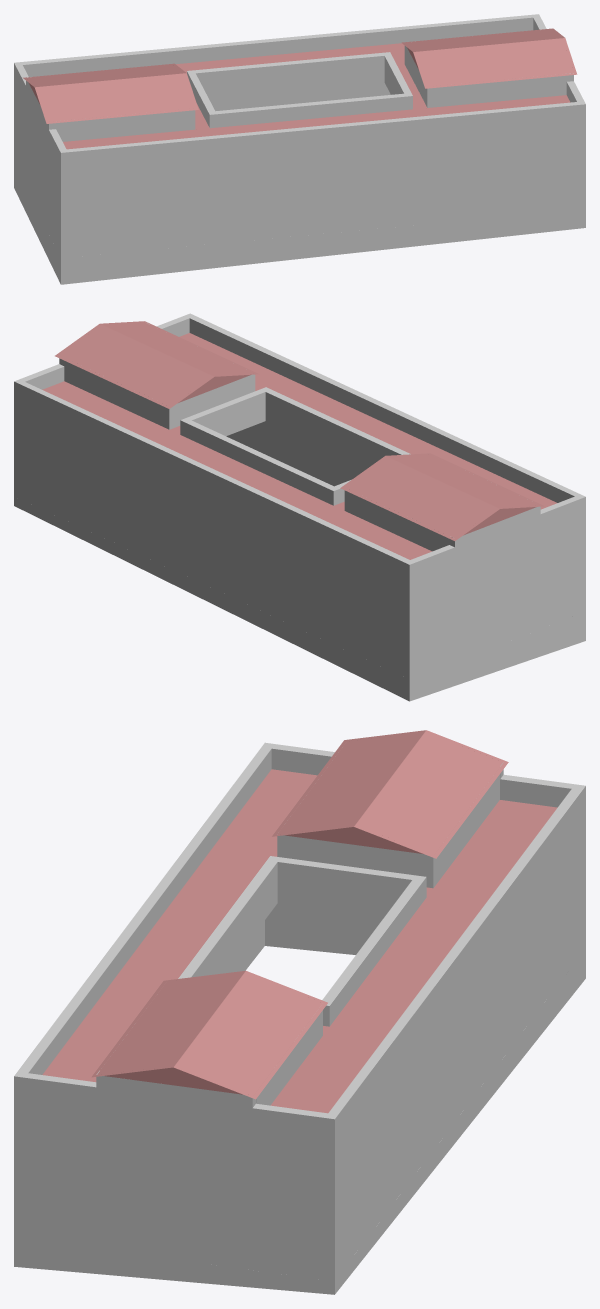
Rendered from LOD_Block_3_13.glb.
The picture shows the model from 3 angles, top to bottom: view 1: azimuth 30°, elevation 25°; view 2: azimuth 150°, elevation 25°; view 3: azimuth 270°, elevation 25°; orthographic projection. The views are drawn at different scales.
Parts seen in each view (by area): view 1: mesh_CityEngineMaterial_298; view 2: mesh_CityEngineMaterial_298; view 3: mesh_CityEngineMaterial_298.
Part boxes in pixels (bbox=[...]): mesh_CityEngineMaterial_298: bbox=[14, 14, 585, 284]; mesh_CityEngineMaterial_298: bbox=[14, 313, 585, 701]; mesh_CityEngineMaterial_298: bbox=[14, 730, 585, 1294].
Bounding box in the file's own units: 39.25 × 11.44 × 25.19.
